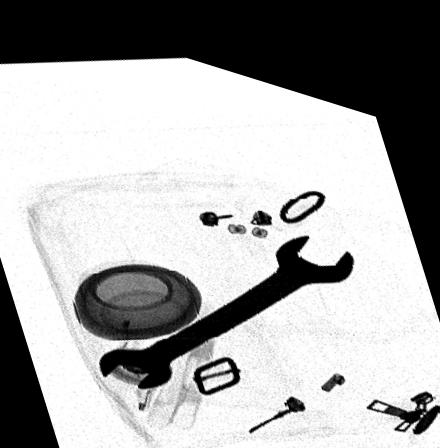Wrench: (96, 216, 353, 380)
